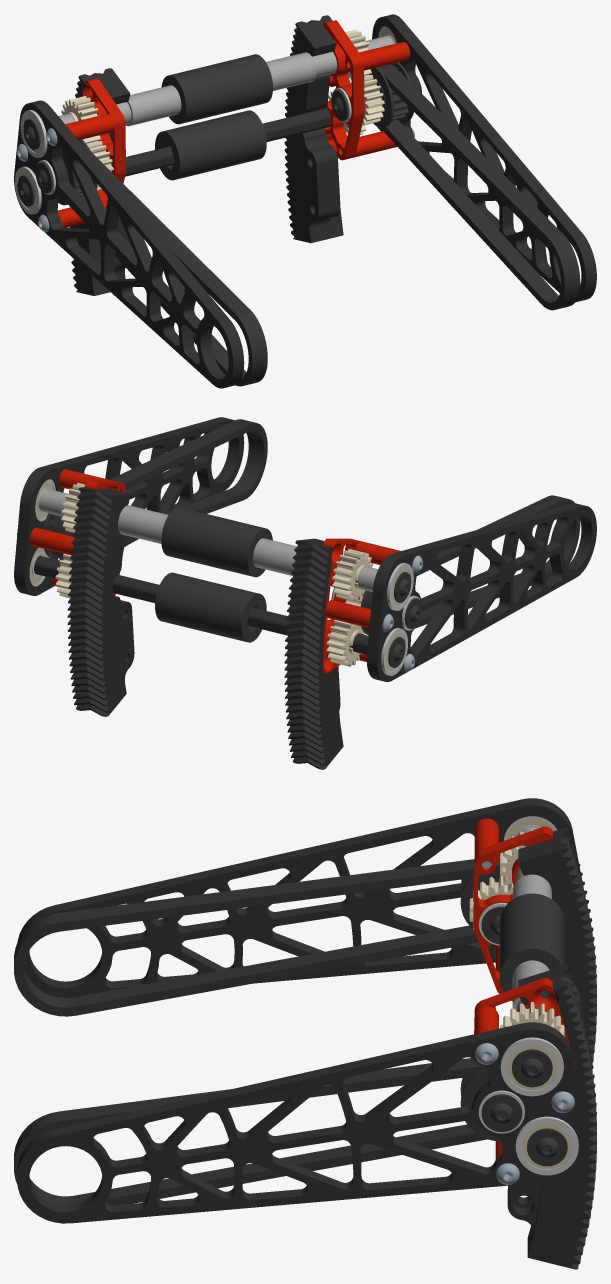
The picture shows the model from 3 angles, top to bottom: view 1: azimuth 30°, elevation 25°; view 2: azimuth 150°, elevation 25°; view 3: azimuth 270°, elevation 25°; orthographic projection. The views are drawn at different scales.
Parts seen in each view (by area): view 1: Correct hood plate (×2), 90T 5M 9mm Wide Belt (×2), Sushi Roller (60A, 1/2" Hex Bore) (×4), Helical 1.2700000000000002M 324T, ROUND Spacer 1.875 in (×2), RACK GEARBOX PLATE, Helical 1.2700000000000002M 324T-Mirrored, ROUND Spacer 1.068 in (×3), 3/8" ThunderHex (8.51 in), Gear Stack, 18t Aluminum Pulley (HTD 5mm, 9mm Wide, 1/2" Hex Bore), 3/8" Rounded Hex (10.25mm) ID Bearing (0.875" OD, 0.281" WD, (×2) (+2 smaller); view 2: Correct hood plate (×2), Helical 1.2700000000000002M 324T, Sushi Roller (60A, 1/2" Hex Bore) (×4), Helical 1.2700000000000002M 324T-Mirrored, 90T 5M 9mm Wide Belt (×2), ROUND Spacer 1.068 in (×4), ROUND Spacer 1.875 in (×2), 18t Aluminum Spur Gear (20 DP, 3/8" Hex Bore)-Mirrored (×2), 3/8" ThunderHex (8.51 in), 3/8" Rounded Hex (10.25mm) ID Bearing (0.875" OD, 0.281" WD, (×2), 18t Aluminum Spur Gear (20 DP, 3/8" Hex Bore) (×2), Gear Stack (+1 smaller); view 3: Correct hood plate (×2), 90T 5M 9mm Wide Belt (×2), Helical 1.2700000000000002M 324T, Helical 1.2700000000000002M 324T-Mirrored, Sushi Roller (60A, 1/2" Hex Bore) (×2), #10-32 x 0.25" L Shaft End Screw (Steel, Black Oxide) (×3), 3/8" Rounded Hex (10.25mm) ID Bearing (0.875" OD, 0.281" WD, (×2), Gear Stack, RACK GEARBOX PLATE, ROUND Spacer 1.875 in (×2), 18t Aluminum Spur Gear (20 DP, 3/8" Hex Bore), 18t Aluminum Pulley (HTD 5mm, 9mm Wide, 1/2" Hex Bore) (+3 smaller).
Boxes of the visible parts, x1=… form: Correct hood plate (×2): x1=14, y1=14, x2=596, y2=388; 90T 5M 9mm Wide Belt (×2): x1=68, y1=64, x2=580, y2=386; Sushi Roller (60A, 1/2" Hex Bore) (×4): x1=155, y1=54, x2=272, y2=180; Helical 1.2700000000000002M 324T: x1=284, y1=15, x2=343, y2=243; ROUND Spacer 1.875 in (×2): x1=116, y1=51, x2=337, y2=126; RACK GEARBOX PLATE: x1=319, y1=20, x2=364, y2=160; Helical 1.2700000000000002M 324T-Mirrored: x1=70, y1=68, x2=131, y2=295; ROUND Spacer 1.068 in (×3): x1=65, y1=41, x2=410, y2=157; 3/8" ThunderHex (8.51 in): x1=125, y1=108, x2=331, y2=176; Gear Stack: x1=82, y1=78, x2=125, y2=209; 18t Aluminum Pulley (HTD 5mm, 9mm Wide, 1/2" Hex Bore): x1=369, y1=62, x2=413, y2=127; 3/8" Rounded Hex (10.25mm) ID Bearing (0.875" OD, 0.281" WD, (×2): x1=14, y1=110, x2=47, y2=214; Correct hood plate (×2): x1=14, y1=417, x2=596, y2=681; Helical 1.2700000000000002M 324T: x1=67, y1=487, x2=134, y2=716; Sushi Roller (60A, 1/2" Hex Bore) (×4): x1=155, y1=507, x2=272, y2=642; Helical 1.2700000000000002M 324T-Mirrored: x1=284, y1=538, x2=343, y2=769; 90T 5M 9mm Wide Belt (×2): x1=50, y1=419, x2=580, y2=633; ROUND Spacer 1.068 in (×4): x1=29, y1=469, x2=400, y2=627; ROUND Spacer 1.875 in (×2): x1=118, y1=505, x2=296, y2=575; 18t Aluminum Spur Gear (20 DP, 3/8" Hex Bore)-Mirrored (×2): x1=326, y1=549, x2=372, y2=666; 3/8" ThunderHex (8.51 in): x1=34, y1=555, x2=368, y2=654; 3/8" Rounded Hex (10.25mm) ID Bearing (0.875" OD, 0.281" WD, (×2): x1=381, y1=563, x2=413, y2=675; 18t Aluminum Spur Gear (20 DP, 3/8" Hex Bore) (×2): x1=55, y1=482, x2=84, y2=598; Gear Stack: x1=323, y1=538, x2=360, y2=673; Correct hood plate (×2): x1=17, y1=798, x2=587, y2=1223; 90T 5M 9mm Wide Belt (×2): x1=14, y1=856, x2=499, y2=1205; Helical 1.2700000000000002M 324T: x1=507, y1=965, x2=596, y2=1269; Helical 1.2700000000000002M 324T-Mirrored: x1=518, y1=827, x2=596, y2=1065; Sushi Roller (60A, 1/2" Hex Bore) (×2): x1=499, y1=893, x2=564, y2=1001; #10-32 x 0.25" L Shaft End Screw (Steel, Black Oxide) (×3): x1=481, y1=1049, x2=567, y2=1166; 3/8" Rounded Hex (10.25mm) ID Bearing (0.875" OD, 0.281" WD, (×2): x1=500, y1=1037, x2=578, y2=1175; Gear Stack: x1=473, y1=826, x2=552, y2=993; RACK GEARBOX PLATE: x1=474, y1=978, x2=569, y2=1044; ROUND Spacer 1.875 in (×2): x1=512, y1=868, x2=551, y2=1010; 18t Aluminum Spur Gear (20 DP, 3/8" Hex Bore): x1=500, y1=1002, x2=564, y2=1036; 18t Aluminum Pulley (HTD 5mm, 9mm Wide, 1/2" Hex Bore): x1=460, y1=1068, x2=500, y2=1141.
Bounding box in the file's own units: 0.2221 × 0.1227 × 0.2272.
